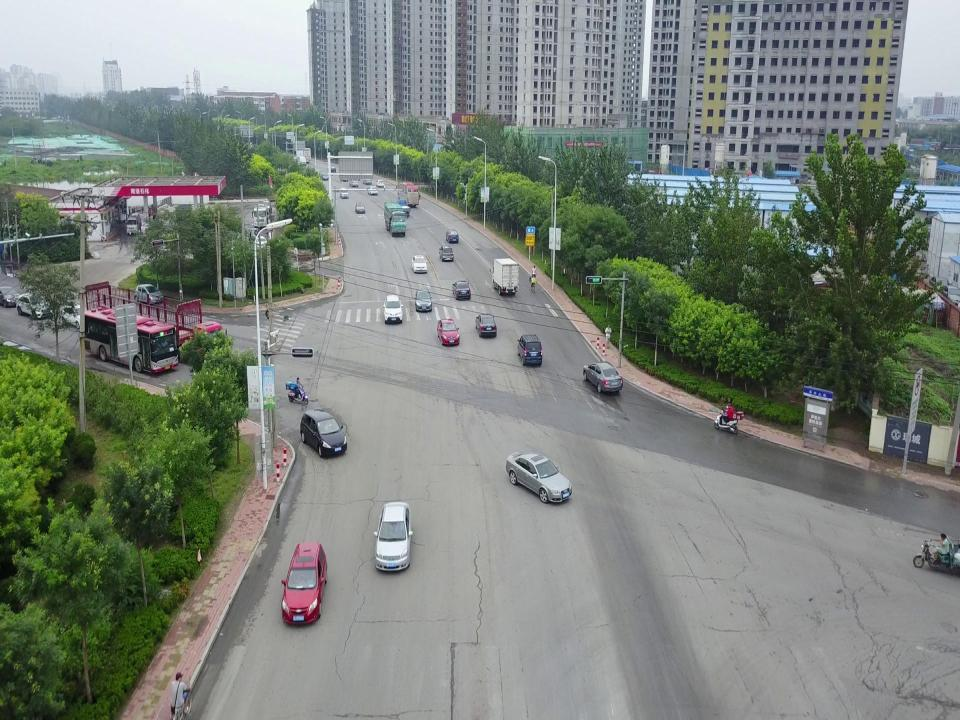bus: (81, 303, 179, 376), (396, 180, 420, 209)
car: (281, 542, 329, 628), (505, 450, 573, 505), (374, 501, 414, 574), (298, 408, 348, 459), (582, 360, 624, 395), (15, 290, 54, 318), (60, 304, 92, 329), (436, 318, 460, 346), (382, 294, 404, 324), (134, 283, 164, 304), (475, 313, 497, 337), (0, 284, 22, 308), (414, 288, 432, 312), (451, 279, 471, 300), (411, 254, 427, 274), (438, 244, 454, 262), (252, 235, 268, 249), (445, 229, 459, 243), (248, 228, 260, 242), (354, 201, 366, 214), (367, 185, 378, 196), (340, 186, 348, 198), (320, 171, 329, 181), (362, 176, 372, 185), (327, 164, 336, 172), (376, 179, 384, 187)
truck: (82, 279, 228, 366), (489, 258, 519, 298), (384, 200, 406, 238), (252, 198, 272, 229), (396, 198, 412, 219), (295, 148, 311, 164)
van: (516, 334, 542, 366), (126, 211, 142, 236), (295, 156, 306, 167), (348, 176, 358, 188)
